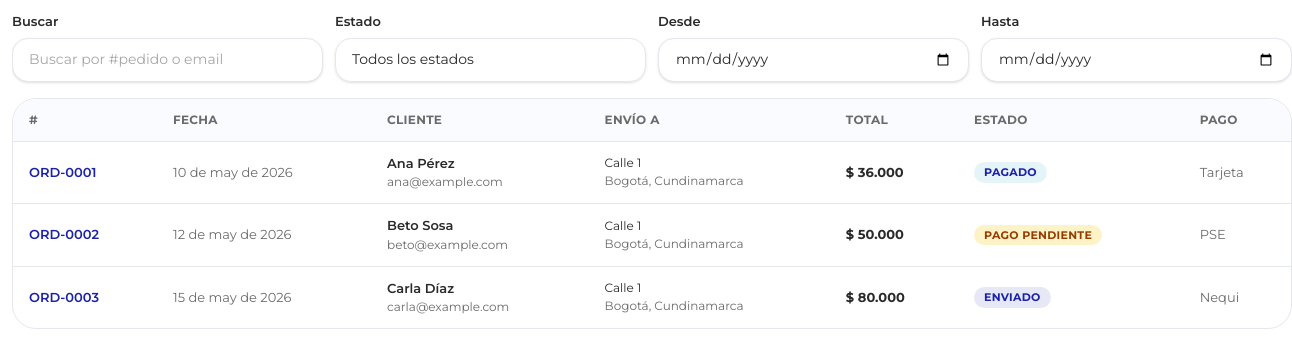
Test: OrdersTable › filtra por status
Step 1. Select "Enviado" in the dropdown labelled "Estado" → [490, 60], box [335,38,646,82]
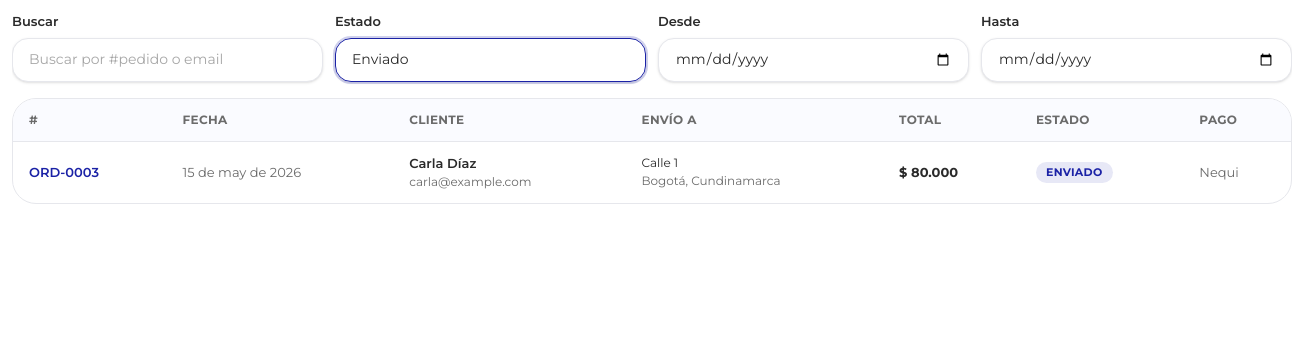
Check: the text "ORD-0003" is shown, box [13,141,167,203]
Check: the text "ORD-0001" is gone
Check: the text "ORD-0002" is gone
